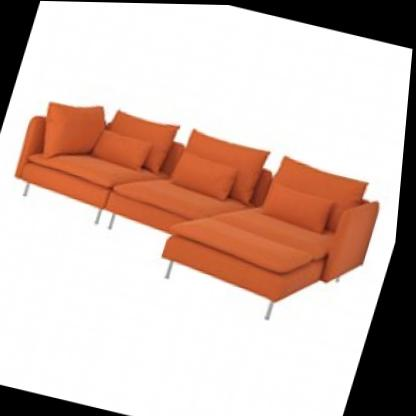Sofa: (0, 60, 410, 346)
